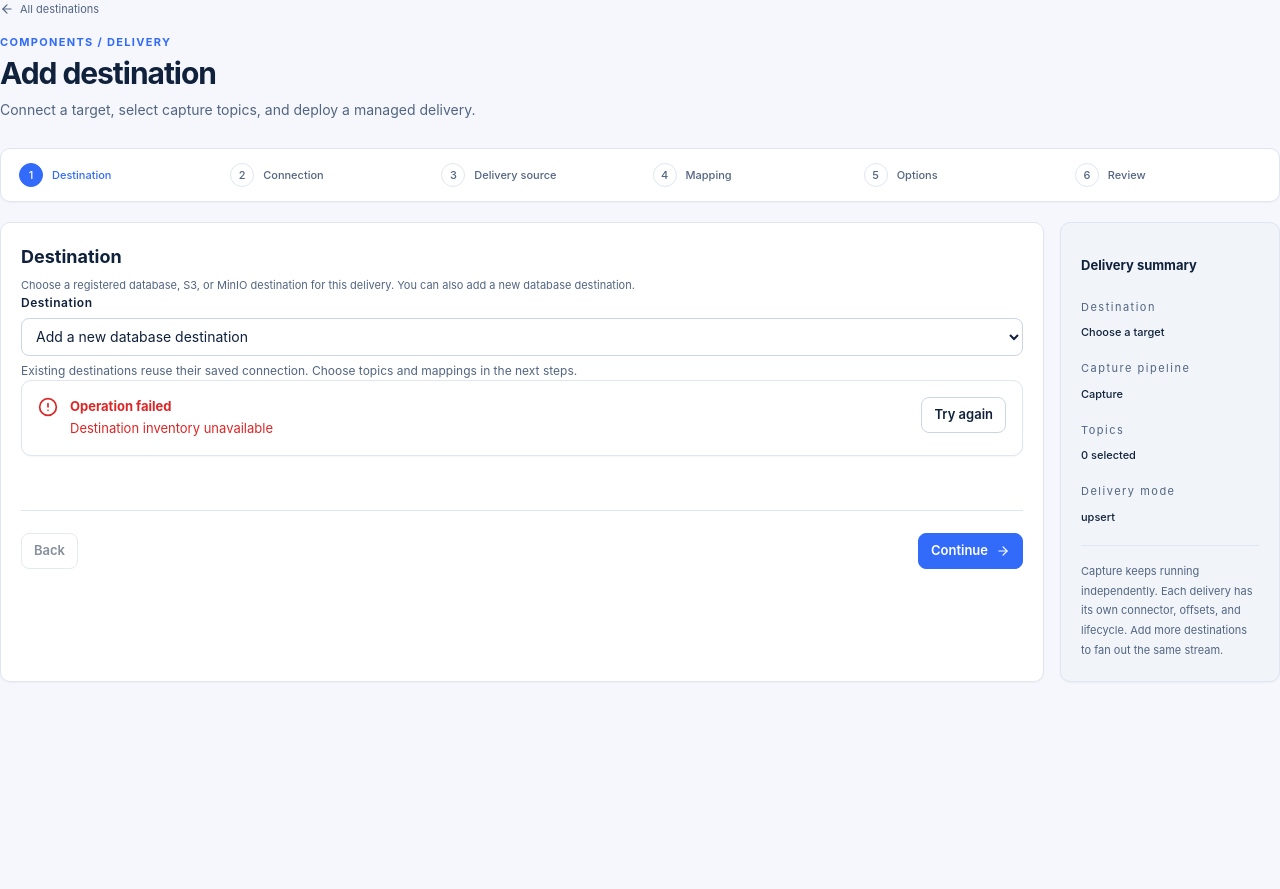
Test: shows inventory failures and keeps the new-destination path available
The width and height of the screenshot is (1280, 889).
Expected: the text "Destination inventory unavailable" is shown, [70, 419, 273, 439]
What coordinates should you click on to do the following:
click the button "Continue"
I would click on:
 (970, 551)
Its box is [918, 533, 1023, 569].
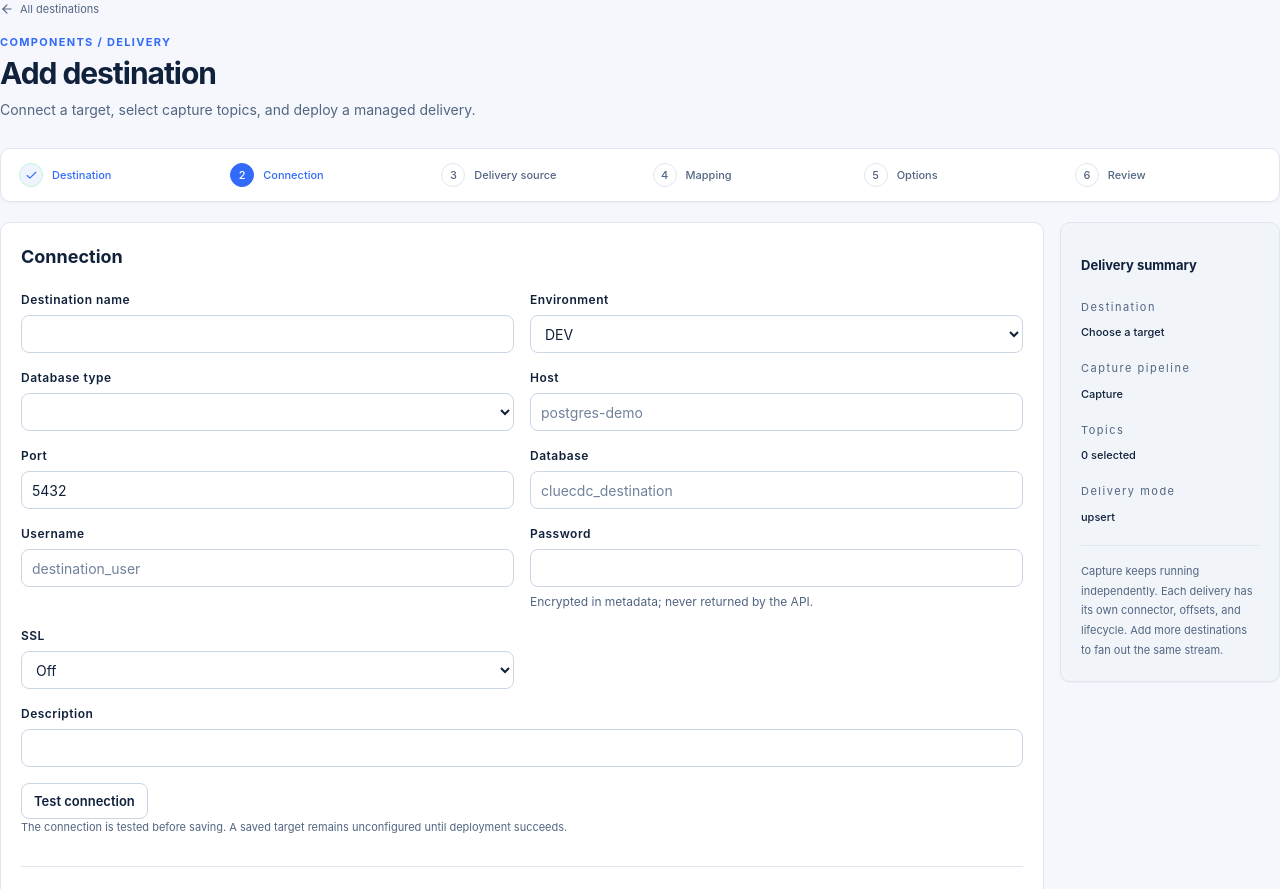
Expected: the field labelled "Destination name" is shown, [21, 315, 514, 353]
